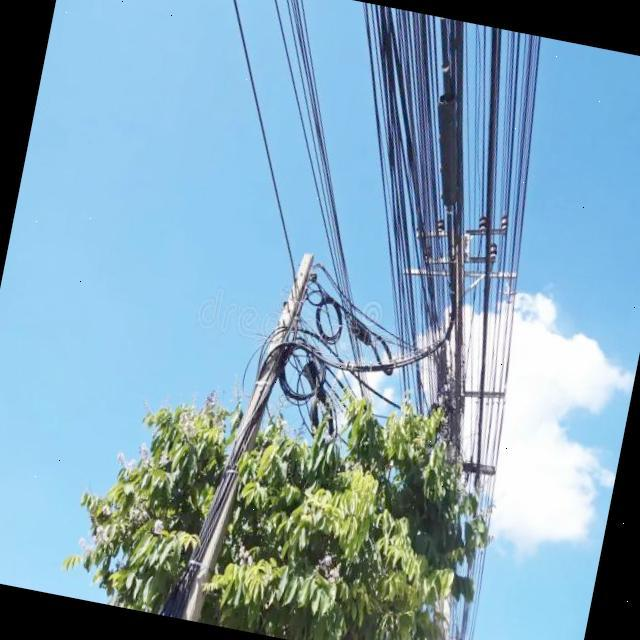critical vegetation: (64, 167, 604, 640)
